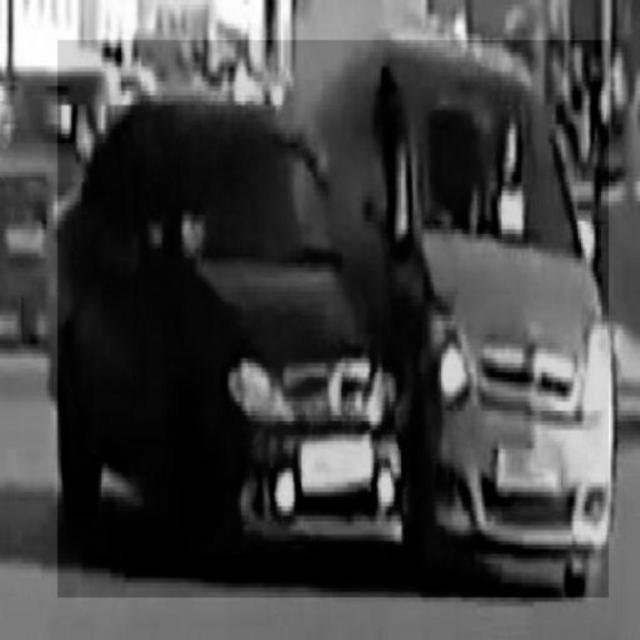accident: (58, 40, 609, 597)
